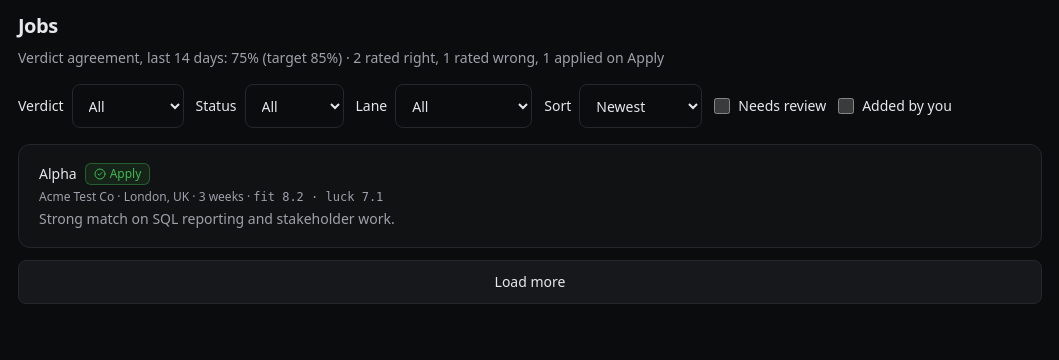
Test: JobsPage › loads more with the cursor and appends
Click the button "Load more".
click(530, 282)  # box [18, 260, 1042, 304]
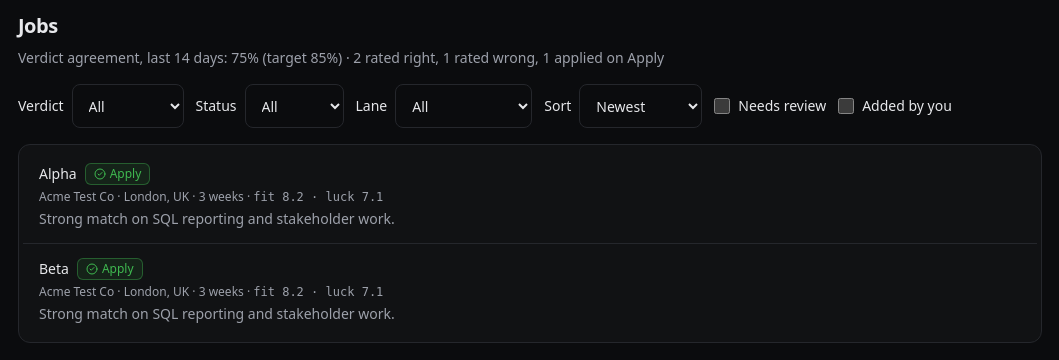
Expected: the text "Alpha" is shown, [39, 164, 77, 184]
Now the text "Beta" is shown, box [39, 259, 69, 279]
Now the button "Load more" is gone
